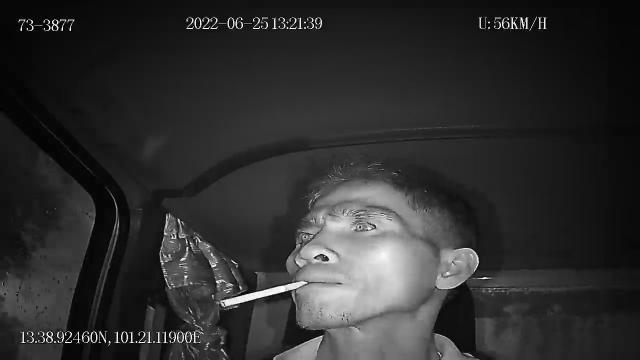SafeDriving: (342, 212, 386, 238)
Smoking: (220, 280, 308, 308)
